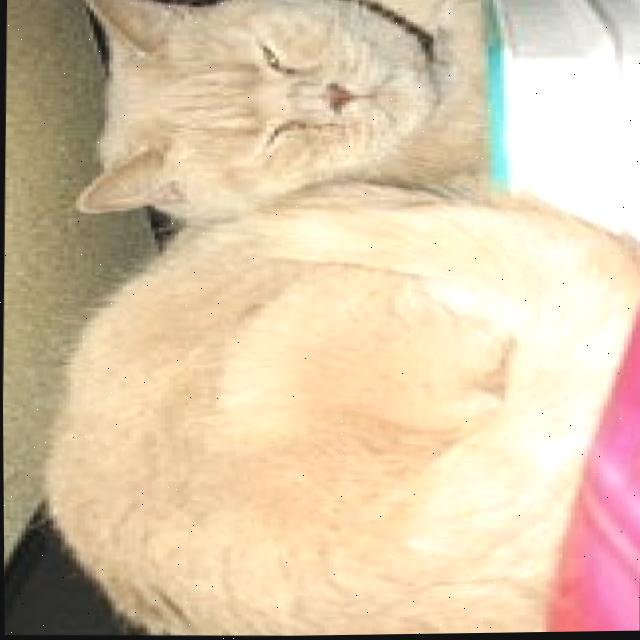British Shorthair: (25, 0, 640, 640)
